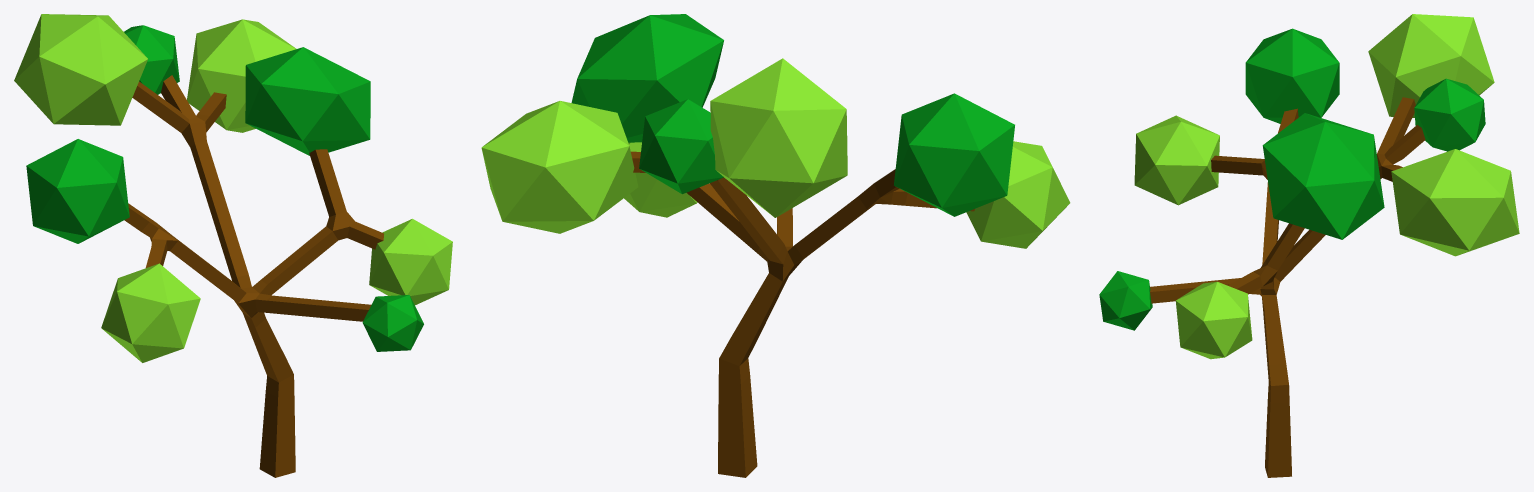
The model's file is Tree01.fbx.
The picture shows the model from 3 angles, left to right: view 1: azimuth 30°, elevation 25°; view 2: azimuth 150°, elevation 25°; view 3: azimuth 270°, elevation 25°; orthographic projection. The views are drawn at different scales.
Parts seen in each view (by area): view 1: Tree01, Icosphere.002, Icosphere.007, Icosphere, Icosphere.001, Icosphere.004, Icosphere.006, Icosphere.005, Icosphere.003; view 2: Icosphere.002, Icosphere.004, Tree01, Icosphere.007, Icosphere, Icosphere.001, Icosphere.003, Icosphere.006; view 3: Icosphere.007, Tree01, Icosphere.004, Icosphere.002, Icosphere, Icosphere.001, Icosphere.006, Icosphere.003, Icosphere.005.
Part boxes in pixels (x1,y1,x2,y2): Tree01: [124, 75, 383, 477]; Icosphere.002: [14, 14, 147, 125]; Icosphere.007: [245, 47, 370, 155]; Icosphere: [26, 139, 129, 243]; Icosphere.001: [101, 263, 200, 362]; Icosphere.004: [187, 19, 296, 132]; Icosphere.006: [369, 218, 452, 305]; Icosphere.005: [362, 295, 423, 351]; Icosphere.003: [124, 25, 179, 94]; Icosphere.002: [710, 58, 847, 217]; Icosphere.004: [481, 101, 638, 233]; Tree01: [631, 151, 974, 477]; Icosphere.007: [571, 14, 723, 142]; Icosphere: [894, 93, 1014, 216]; Icosphere.001: [966, 141, 1070, 248]; Icosphere.003: [639, 99, 723, 194]; Icosphere.006: [624, 142, 697, 217]; Icosphere.007: [1262, 113, 1384, 239]; Tree01: [1150, 97, 1425, 477]; Icosphere.004: [1391, 149, 1519, 256]; Icosphere.002: [1368, 14, 1494, 117]; Icosphere: [1245, 28, 1339, 123]; Icosphere.001: [1134, 115, 1219, 205]; Icosphere.006: [1175, 281, 1252, 359]; Icosphere.003: [1414, 78, 1485, 151]; Icosphere.005: [1099, 271, 1152, 330].
Size of the model in its own units: 737 by 812 by 759.
